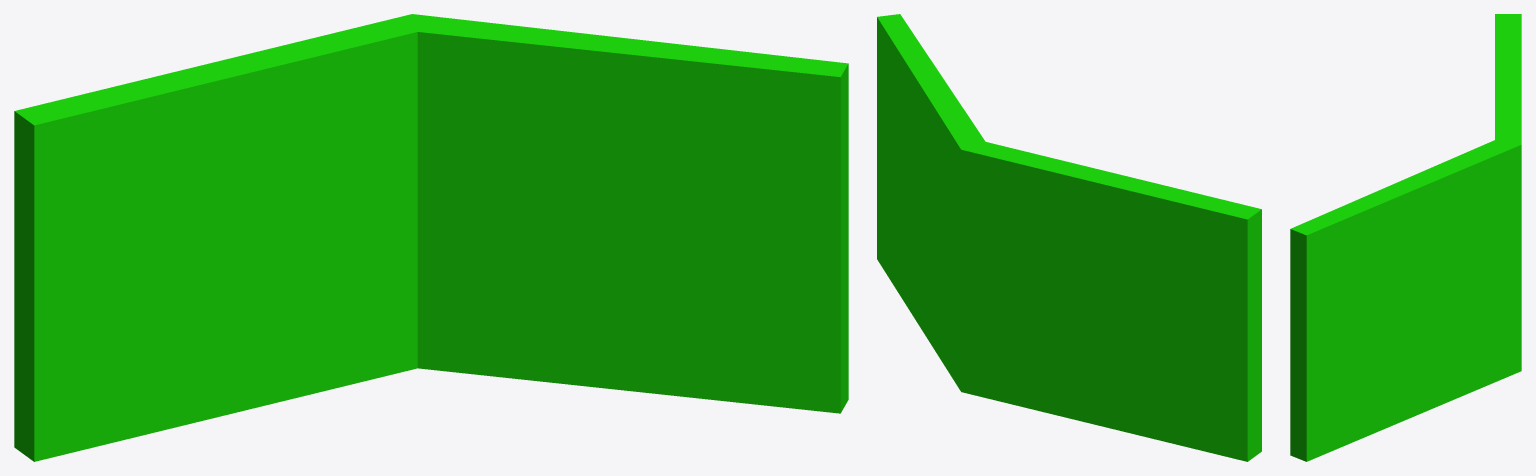
The model's file is SM_wall_bent_collider.fbx.
The picture shows the model from 3 angles, left to right: view 1: azimuth 30°, elevation 25°; view 2: azimuth 150°, elevation 25°; view 3: azimuth 270°, elevation 25°; orthographic projection. The views are drawn at different scales.
Visible parts, largest first — view 1: Cube.002; view 2: Cube.002; view 3: Cube.002.
Boxes of the visible parts, x1,y1,x2,y2 form: Cube.002: [14, 14, 848, 461]; Cube.002: [877, 14, 1261, 461]; Cube.002: [1290, 14, 1521, 461].
Size of the model in its own units: 10.52 by 5.02 by 4.64.
